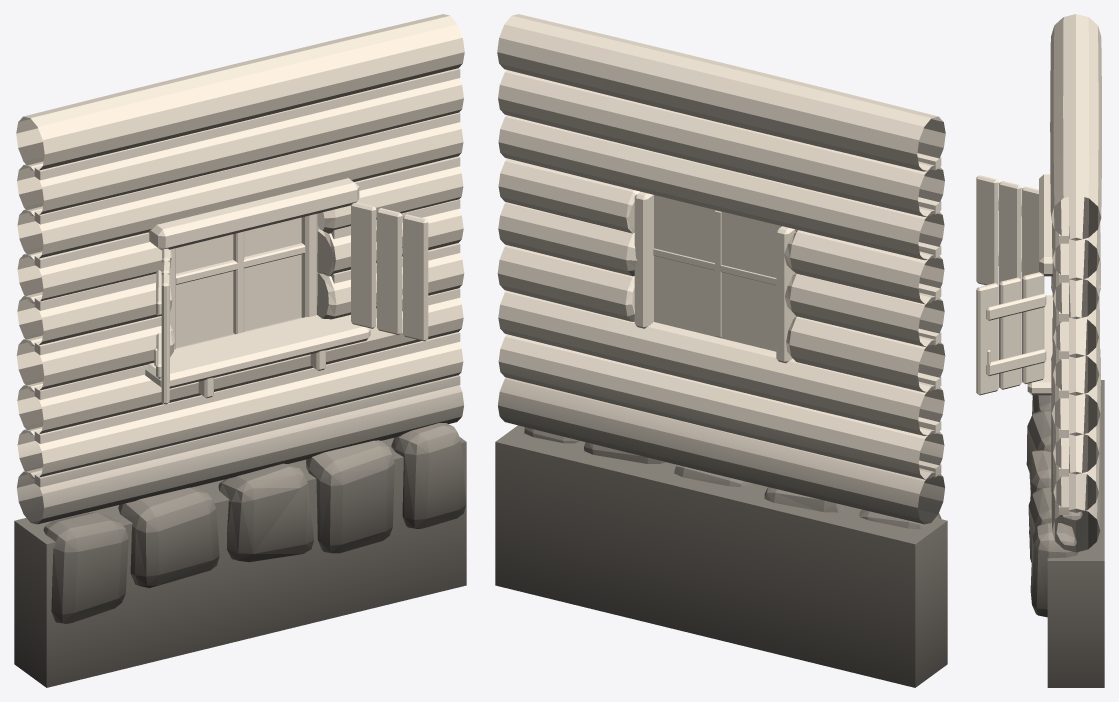
Rendered from SM_VK_Wall_Log_B_Window.fbx.
3 views of the same model, side by side, from view 1: azimuth 30°, elevation 25°; view 2: azimuth 150°, elevation 25°; view 3: azimuth 270°, elevation 25° (orthographic). The views are drawn at different scales.
Parts seen in each view (by area): view 1: SM_VK_Wall_Log_B_Window.001; view 2: SM_VK_Wall_Log_B_Window.001; view 3: SM_VK_Wall_Log_B_Window.001.
Boxes of the visible parts, box(x1,y1,x2,y2) form: SM_VK_Wall_Log_B_Window.001: box(14, 14, 466, 687); SM_VK_Wall_Log_B_Window.001: box(495, 14, 947, 687); SM_VK_Wall_Log_B_Window.001: box(976, 14, 1104, 687).
Size of the model in its own units: 3 by 3.81 by 0.899.
